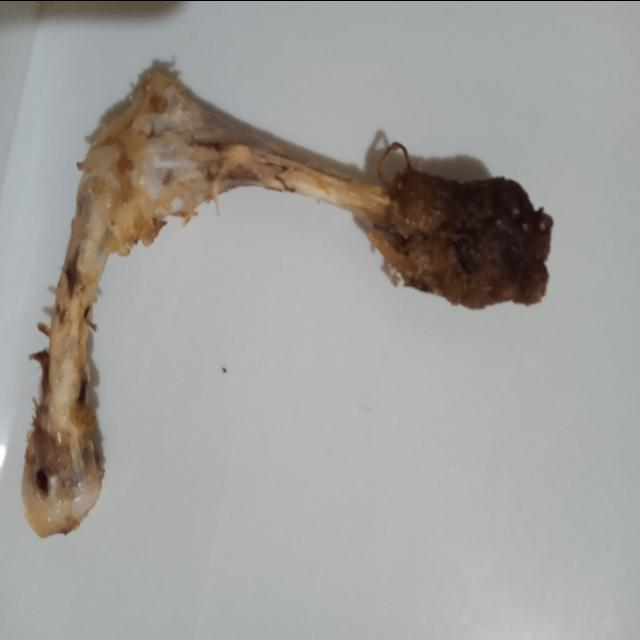bone: (14, 42, 573, 560)
